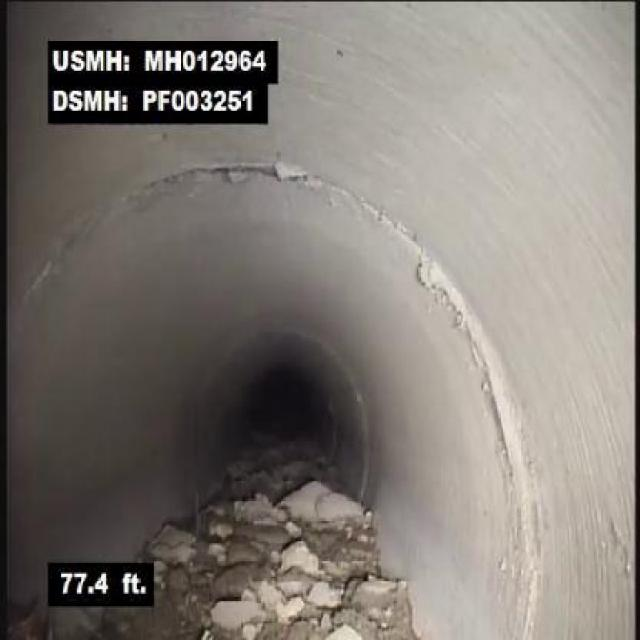Obstacle: (157, 420, 295, 638), (296, 449, 424, 637)
